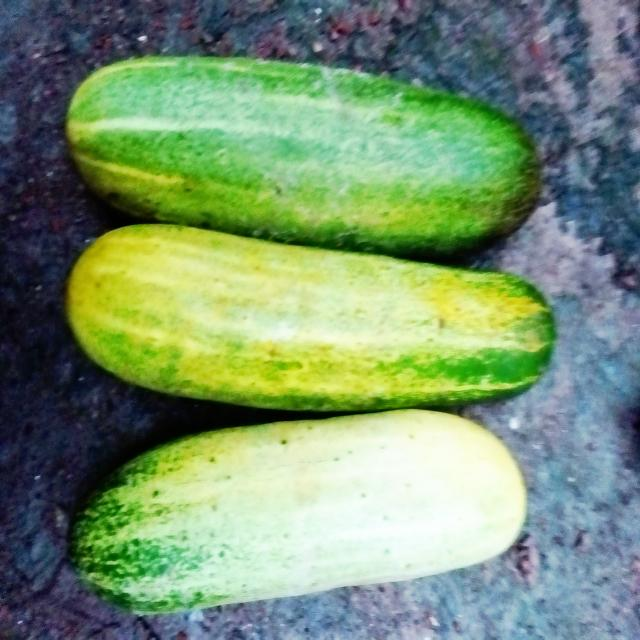Fresh-Cucumber: (61, 47, 546, 260), (62, 218, 558, 414), (71, 411, 529, 619)
